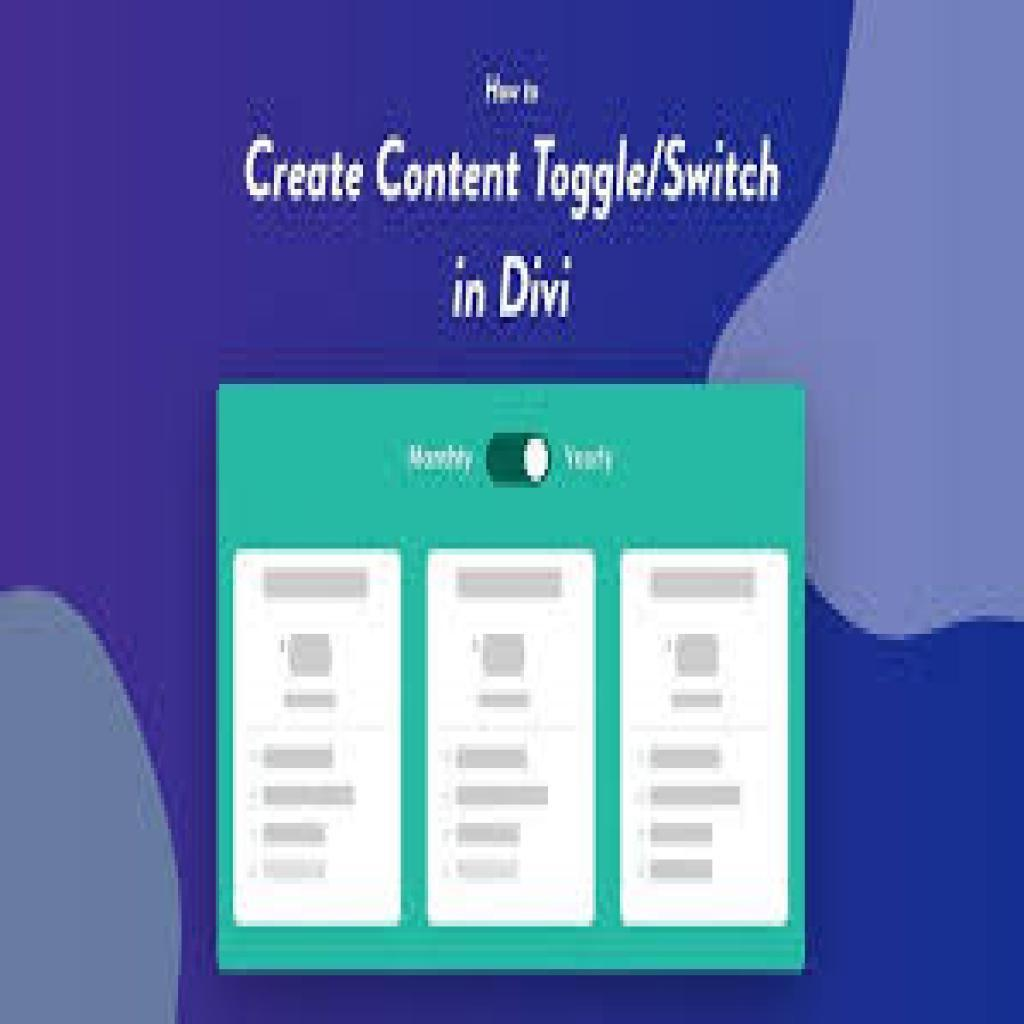switch: (485, 432, 556, 488)
